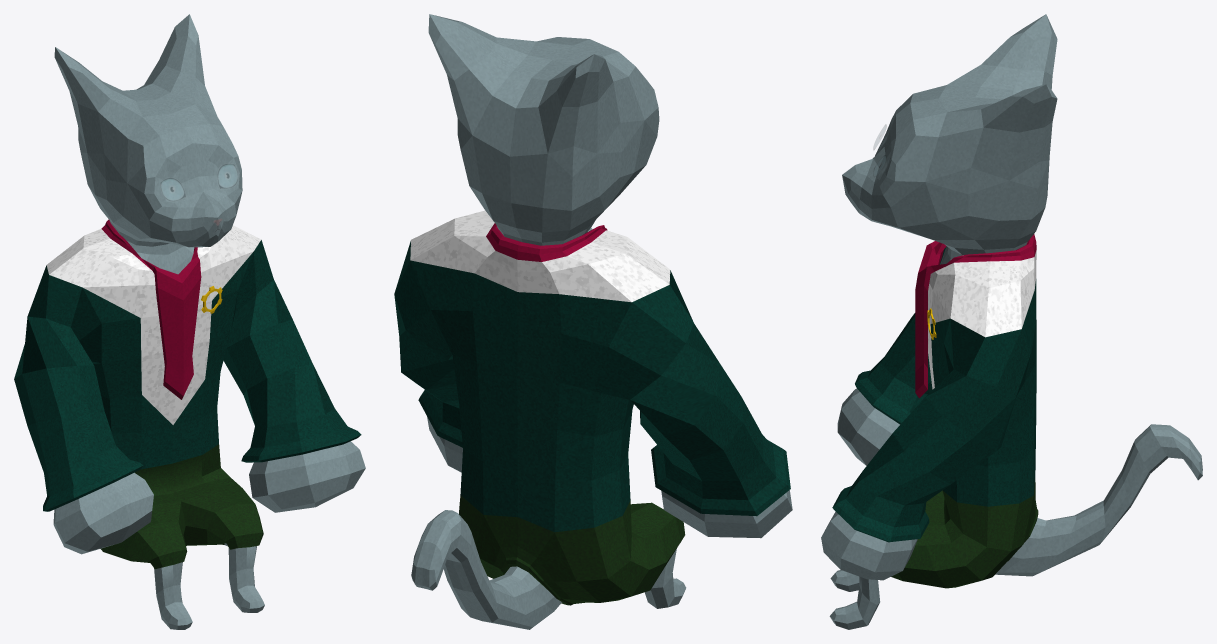
File: Gato.glb
The picture shows the model from 3 angles, left to right: view 1: azimuth 30°, elevation 25°; view 2: azimuth 150°, elevation 25°; view 3: azimuth 270°, elevation 25°; orthographic projection. The views are drawn at different scales.
Visible parts, largest first — view 1: Plane.001; view 2: Plane.001; view 3: Plane.001.
Boxes of the visible parts, box(x1,y1,x2,y2) form: Plane.001: box(14, 14, 365, 629); Plane.001: box(394, 14, 792, 629); Plane.001: box(821, 14, 1202, 629).
Bounding box in the file's own units: 1.83 × 3.03 × 1.87.
7 materials, 6 textured.
